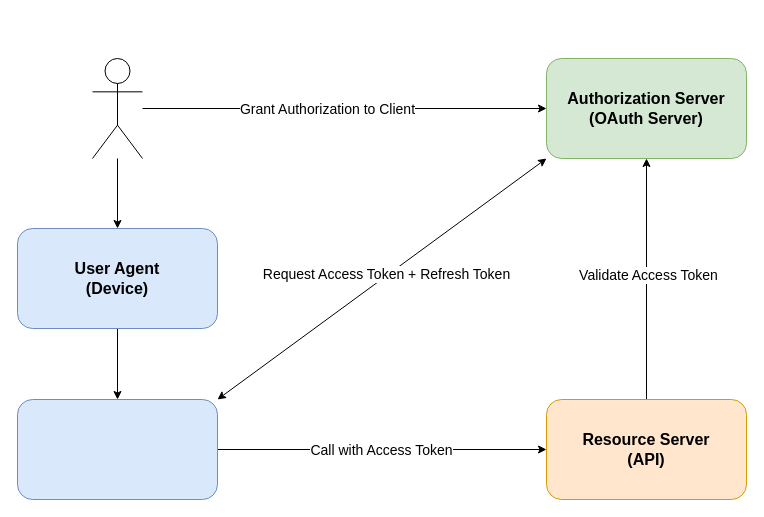
This 764x517 diagram has some shape labels left out. Here are the shapes that lost their labels. From the top down, the centre of each, then its label:
At pixel 117 108: "Resource Owner (The User)".
At pixel 117 449: "Client (Application)".
